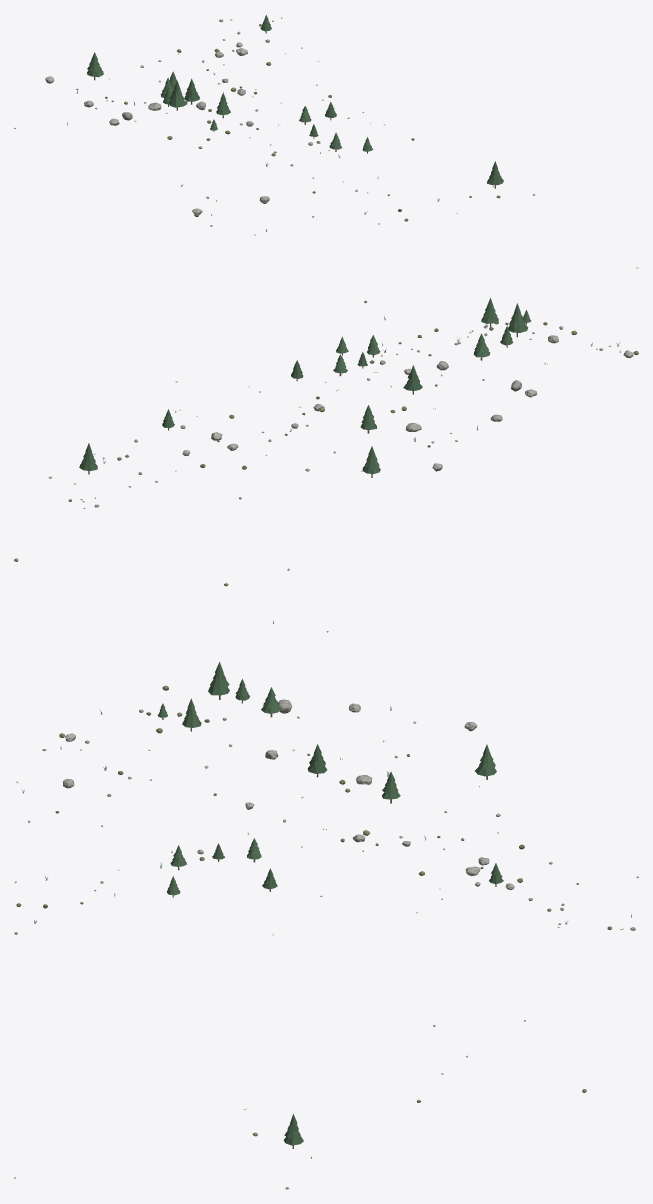
The model's file is coast_land_scatter_c11_15.glb.
The picture shows the model from 3 angles, top to bottom: view 1: azimuth 30°, elevation 25°; view 2: azimuth 150°, elevation 25°; view 3: azimuth 270°, elevation 25°; orthographic projection. The views are drawn at different scales.
Visible parts, largest first — view 1: coast_land_scatter_c11_15; view 2: coast_land_scatter_c11_15; view 3: coast_land_scatter_c11_15.
Part boxes in pixels (x1,y1,x2,y2): coast_land_scatter_c11_15: (14,15,638,268); coast_land_scatter_c11_15: (14,298,638,632); coast_land_scatter_c11_15: (14,662,638,1189).
Bounding box in the file's own units: 230 × 117 × 228.
